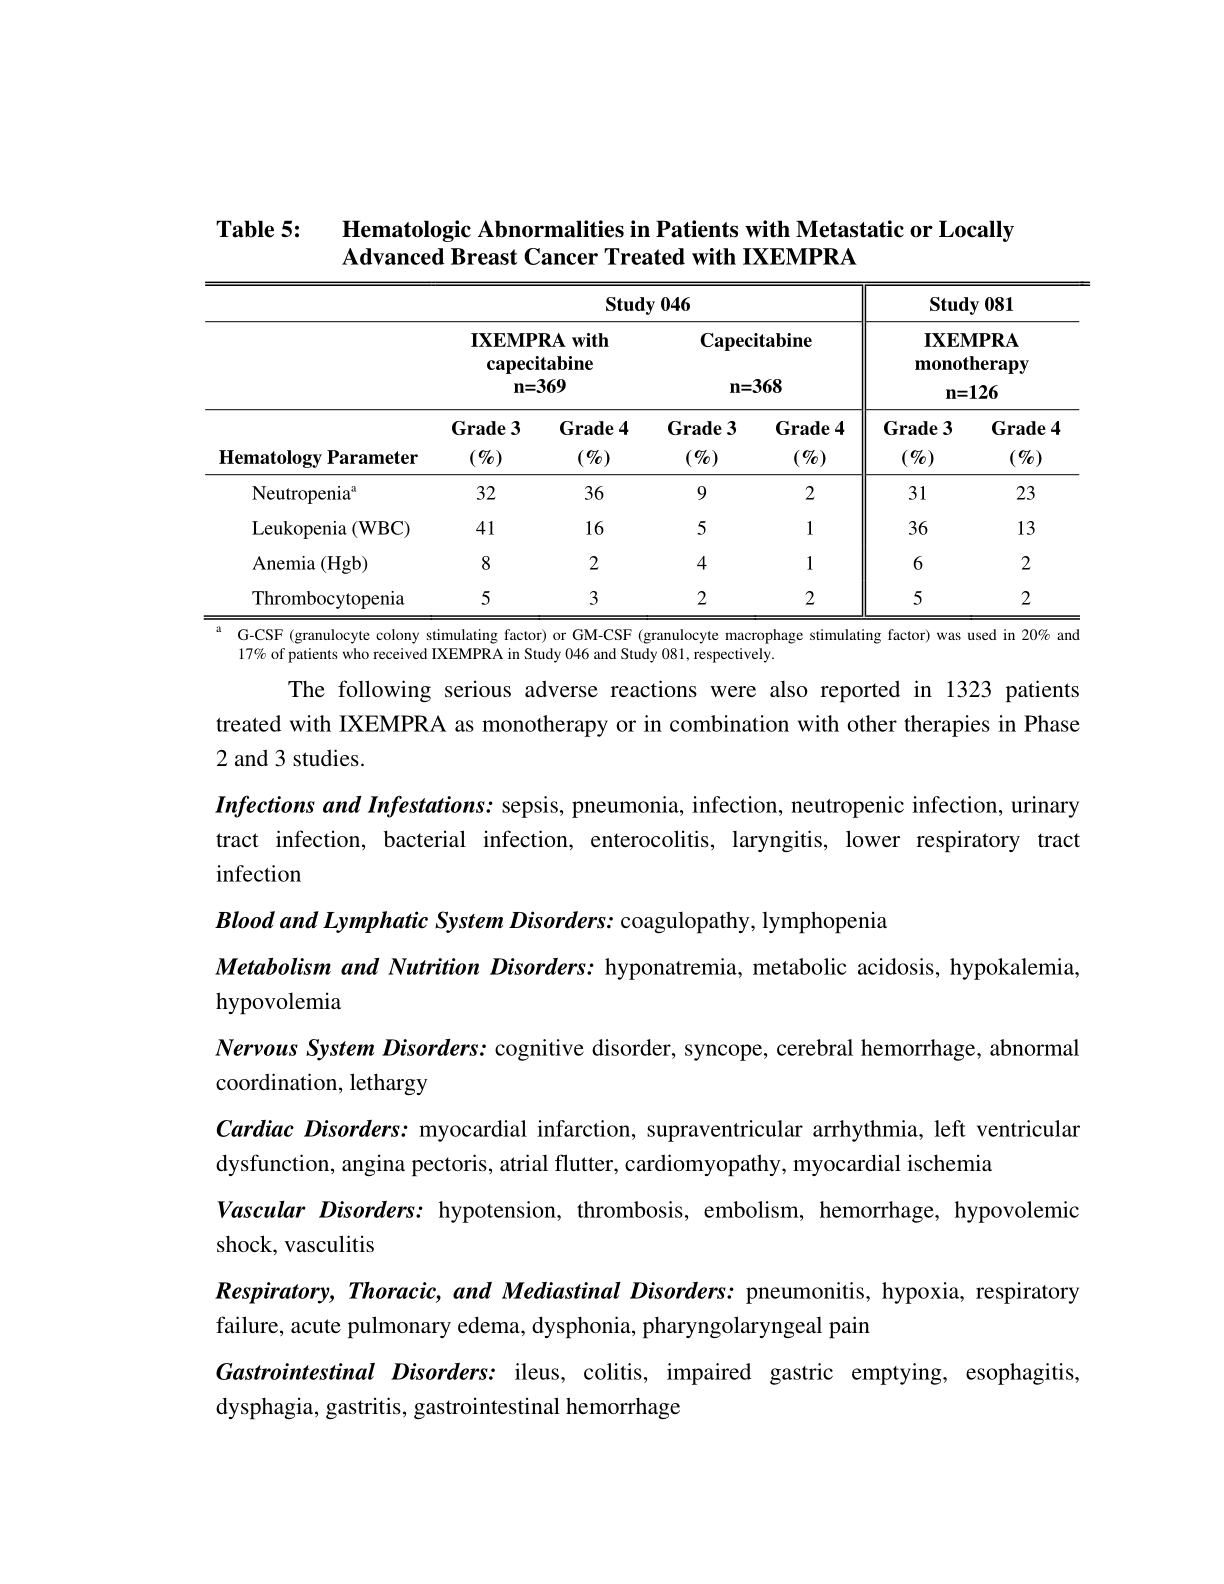partial_lined_merged_cells: (204, 280, 1092, 622)
